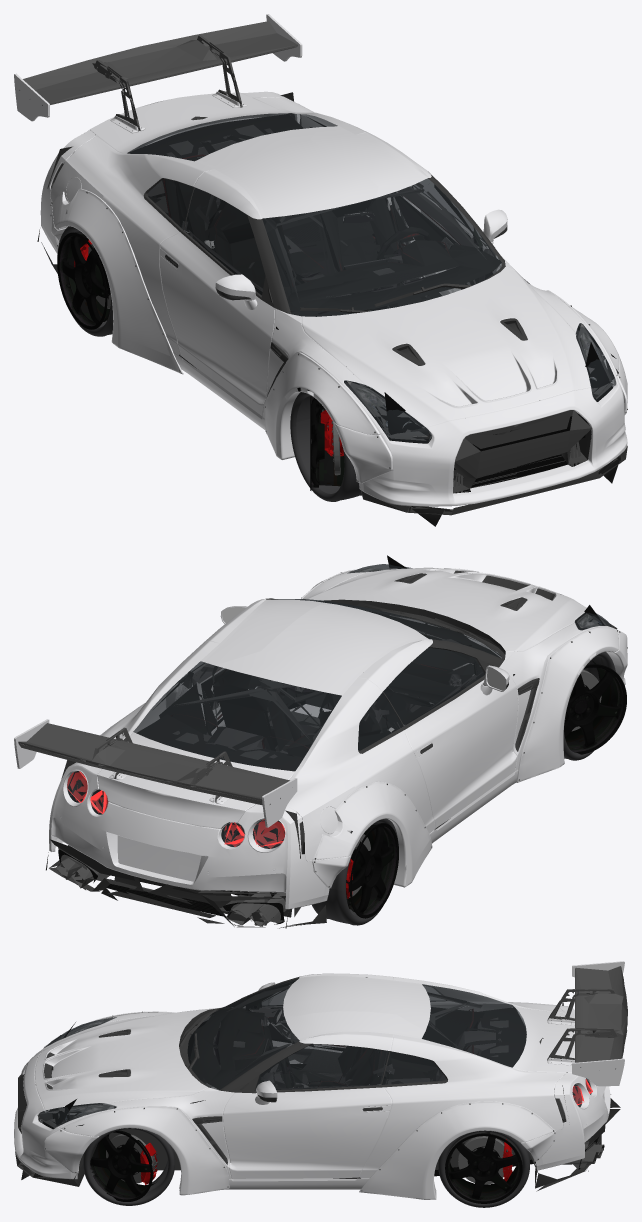
The model's file is kaze_gt35.glb.
The picture shows the model from 3 angles, top to bottom: view 1: azimuth 30°, elevation 25°; view 2: azimuth 150°, elevation 25°; view 3: azimuth 270°, elevation 25°; orthographic projection. The views are drawn at different scales.
Visible parts, largest first — view 1: Body_Paint, Body, Wheel_FR, Wheel_RR; view 2: Body_Paint, Body, Wheel_RR, Wheel_FR; view 3: Body_Paint, Body, Wheel_RL, Wheel_FL.
Part boxes in pixels (x1,y1,x2,y2): Body_Paint: (14,14,627,506); Body: (19,21,627,526); Wheel_FR: (290,381,371,501); Wheel_RR: (57,226,113,336); Body_Paint: (14,567,627,909); Body: (18,555,627,928); Wheel_RR: (312,818,398,925); Wheel_FR: (480,649,626,760); Body_Paint: (14,961,624,1199); Body: (15,966,627,1191); Wheel_RL: (438,1130,529,1207); Wheel_FL: (83,1106,175,1205).
Size of what is drawn, in the model's own units: 2.2 by 1.34 by 4.71.
Materials: 53 (15 with a texture image).
